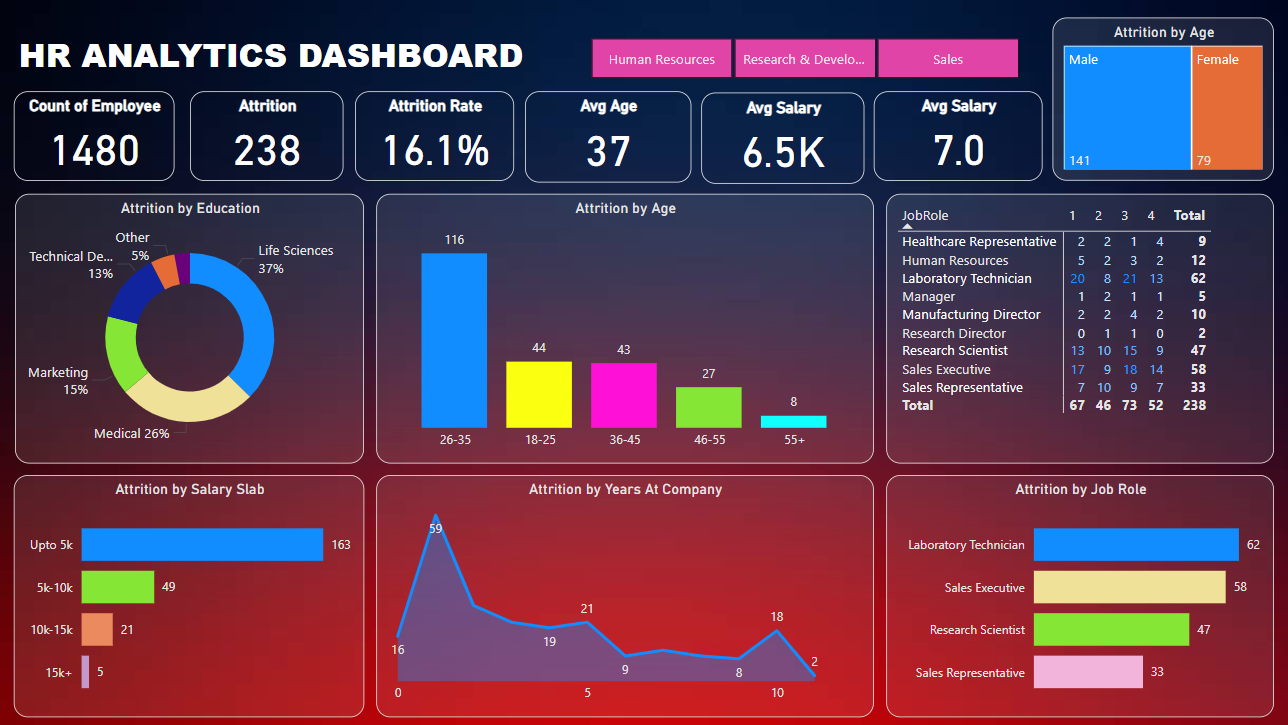

The page's visual inventory and layout, read from the dashboard file:
{"tool":"powerbi","page":{"name":"Page 1","canvas":[1280,720],"ordinal":0},"visuals":[{"type":"card","title":"Count of Employee","fields":{"Values":["CountNonNull(HR_Analytics.EmpID)"]},"box":[13.7,90.6,159.2,89.2],"z":0},{"type":"card","title":"Attrition","fields":{"Values":["Sum(HR_Analytics.AttritionCount)"]},"box":[188,90.6,152.3,89.2],"z":1000},{"type":"card","title":"Attrition Rate","fields":{"Values":["HR_Analytics.AttritionRate"]},"box":[351.3,90.6,157.8,89.2],"z":2000},{"type":"card","title":"Avg Age","fields":{"Values":["Avg(HR_Analytics.Age)"]},"box":[520.1,90.6,164.7,90.6],"z":3000},{"type":"card","title":"Avg Salary","fields":{"Values":["Avg(HR_Analytics.MonthlyIncome)"]},"box":[694.3,91.9,161.9,90.6],"z":4000},{"type":"card","title":"Avg Salary","fields":{"Values":["Avg(HR_Analytics.YearsAtCompany)"]},"box":[865.9,90.6,167.4,89.2],"z":5000},{"type":"donutChart","title":" Attrition by Education","fields":{"Category":["HR_Analytics.EducationField"],"Y":["Sum(HR_Analytics.AttritionCount)"]},"box":[15.1,192.1,345.8,267.6],"z":6000},{"type":"columnChart","title":" Attrition by Age","fields":{"Category":["HR_Analytics.AgeGroup"],"Y":["Sum(HR_Analytics.AttritionCount)"]},"box":[373.2,192.1,492.6,267.6],"z":7000},{"type":"pivotTable","fields":{"Rows":["HR_Analytics.JobRole"],"Columns":["HR_Analytics.JobSatisfaction"],"Values":["Sum(HR_Analytics.AttritionCount)"]},"box":[878.2,192.1,384.2,267.6],"z":8000},{"type":"barChart","title":" Attrition by Age","fields":{"Category":["HR_Analytics.SalarySlab"],"Y":["Sum(HR_Analytics.AttritionCount)"]},"box":[13.7,470.7,347.2,240.1],"z":9000},{"type":"barChart","title":" Attrition by Age","fields":{"Category":["HR_Analytics.JobRole"],"Y":["Sum(HR_Analytics.AttritionCount)"]},"box":[878.2,470.7,384.2,240.1],"z":10000},{"type":"areaChart","title":" Attrition by Age","fields":{"Category":["HR_Analytics.YearsAtCompany"],"Y":["Sum(HR_Analytics.AttritionCount)"]},"box":[373.2,470.7,492.6,240.1],"z":11000},{"type":"treemap","title":" Attrition by Age","fields":{"Group":["HR_Analytics.Gender"],"Values":["Sum(HR_Analytics.AttritionCount)"]},"box":[1042.9,17.8,219.6,161.9],"z":12000},{"type":"textbox","box":[13.7,26.1,528.3,86.4],"z":13000},{"type":"slicer","fields":{"Values":["HR_Analytics.Department"]},"box":[559.9,17.8,473.4,67.2],"z":14000}]}

Visuals, with their boxes in screenshot pixels (x1, y1, x2, y2), scaled from the page's 1280x720 canvas onto the 1288x725 screenshot:
"Count of Employee" card: box=[14, 91, 174, 181]
"Attrition" card: box=[189, 91, 342, 181]
"Attrition Rate" card: box=[353, 91, 512, 181]
"Avg Age" card: box=[523, 91, 689, 182]
"Avg Salary" card: box=[699, 93, 862, 184]
"Avg Salary" card: box=[871, 91, 1040, 181]
" Attrition by Education" donutChart: box=[15, 193, 363, 463]
" Attrition by Age" columnChart: box=[376, 193, 871, 463]
pivotTable - HR_Analytics.JobRole x HR_Analytics.JobSatisfaction: box=[884, 193, 1270, 463]
" Attrition by Age" barChart: box=[14, 474, 363, 716]
" Attrition by Age" barChart: box=[884, 474, 1270, 716]
" Attrition by Age" areaChart: box=[376, 474, 871, 716]
" Attrition by Age" treemap: box=[1049, 18, 1270, 181]
textbox: box=[14, 26, 545, 113]
slicer - HR_Analytics.Department: box=[563, 18, 1040, 86]
